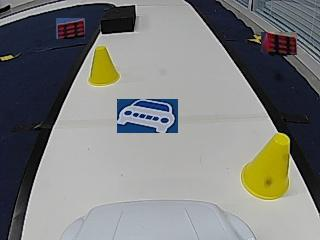block: (100, 5, 136, 34)
cone: (241, 134, 292, 200), (88, 47, 120, 86)
